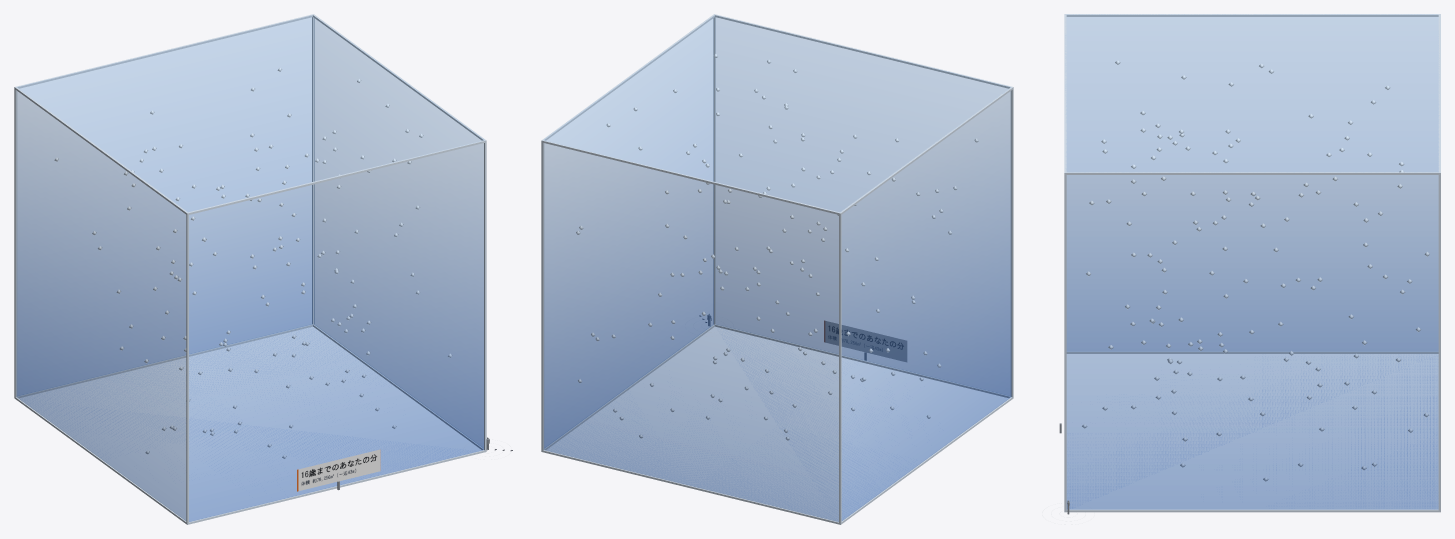
The model's file is cube_life_16.glb.
3 views of the same model, side by side, from view 1: azimuth 30°, elevation 25°; view 2: azimuth 150°, elevation 25°; view 3: azimuth 270°, elevation 25° (orthographic). The views are drawn at different scales.
Parts seen in each view (by area): view 1: co2, edge, dots, label; view 2: co2, edge, dots, label; view 3: co2, edge, dots.
Boxes of the visible parts, x1,y1,x2,y2 form: co2: (16, 15, 483, 521); edge: (14, 14, 486, 524); dots: (54, 67, 452, 458); label: (297, 449, 380, 491); co2: (544, 15, 1011, 521); edge: (541, 14, 1013, 524); dots: (576, 54, 978, 440); label: (824, 320, 906, 361); co2: (1065, 14, 1438, 509); edge: (1064, 14, 1440, 512); dots: (1082, 60, 1429, 481).
Bounding box in the file's own units: 46.47 × 42.77 × 45.57.
8 materials, 3 textured.
